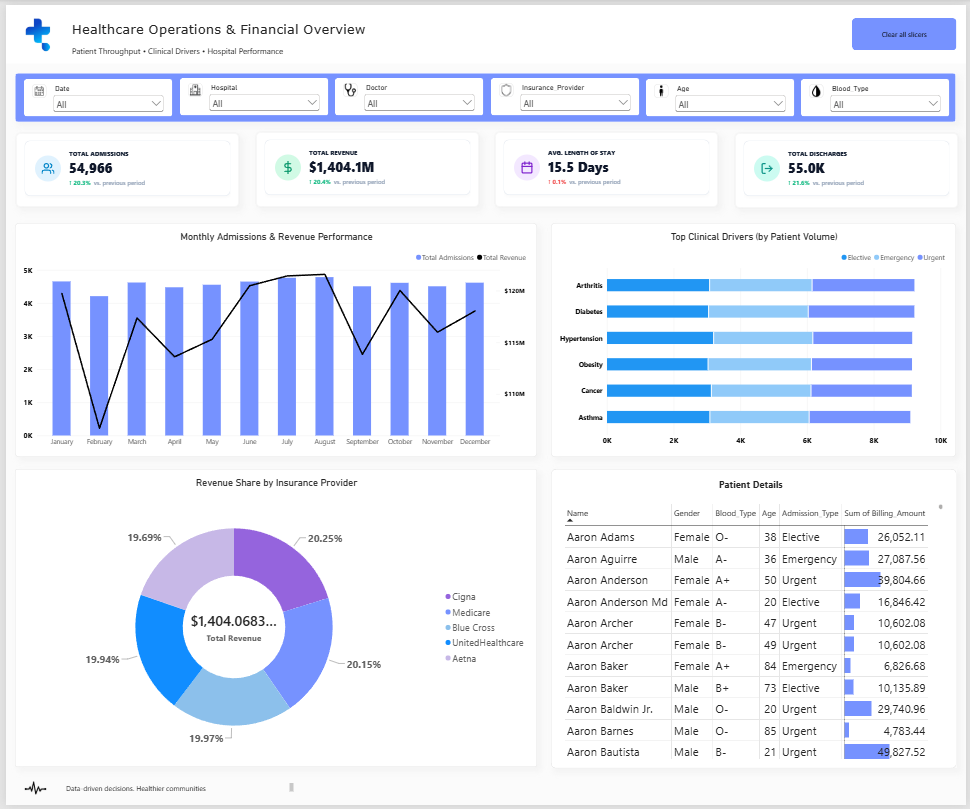

What the dashboard file says about the page in this screenshot:
{"tool":"powerbi","page":{"name":"Dashboard","canvas":[1920,1600],"ordinal":0},"visuals":[{"type":"shape","box":[0,0,1920,116.7],"z":0},{"type":"textbox","box":[132.2,0,706.7,80],"z":0,"group":"g2"},{"type":"slicer","fields":{"Values":["dim_doctor.Doctor"]},"box":[711.7,145.3,230,86],"z":0,"group":"g12"},{"type":"slicer","fields":{"Values":["dim_hospital.Hospital"]},"box":[401.7,146.1,230,86],"z":0,"group":"g13"},{"type":"slicer","fields":{"Values":["dim_insurance.Insurance_Provider"]},"box":[1023.4,146.1,230,86],"z":0,"group":"g14"},{"type":"slicer","fields":{"Values":["dim_date.Date"]},"box":[90,146.4,230,86],"z":0,"group":"g15"},{"type":"slicer","fields":{"Values":["dim_patient.Age"]},"box":[1333.2,146.6,230,86],"z":0,"group":"g16"},{"type":"group","id":"g1","title":"Group 2","box":[1589,148.3,296,86],"z":0,"group":"g4"},{"type":"slicer","fields":{"Values":["dim_patient.Blood_Type"]},"box":[1644,148.3,230,86],"z":0,"group":"g17"},{"type":"shape","box":[1090,928.8,811.2,598.8],"z":0,"group":"g11"},{"type":"group","id":"g2","title":"Group 1","box":[132.2,0,706.7,115],"z":1000},{"type":"textbox","box":[132.2,80,446.7,35],"z":1000,"group":"g2"},{"type":"group","id":"g3","title":"Group 4","box":[35,145.3,1539.4,87.3],"z":1000,"group":"g4"},{"type":"image","box":[673.2,155.8,29.1,27.7],"z":1000,"group":"g12"},{"type":"image","box":[363.2,156.6,29.1,27.7],"z":1000,"group":"g13"},{"type":"image","box":[984.9,156.6,29.1,27.7],"z":1000,"group":"g14"},{"type":"image","box":[51.5,156.9,29.1,27.7],"z":1000,"group":"g15"},{"type":"image","box":[1294.7,157.1,29.1,27.7],"z":1000,"group":"g16"},{"type":"image","box":[1605.5,158.8,29.1,27.7],"z":1000,"group":"g17"},{"type":"tableEx","fields":{"Values":["dim_patient.Name","dim_patient.Gender","dim_patient.Blood_Type","dim_patient.Age","fact_healthcare.Admission_Type","Sum(fact_healthcare.Billing_Amount)"]},"box":[1100.6,984.3,789.9,540.2],"z":1000,"group":"g11"},{"type":"image","box":[18.3,16.7,91.7,86.7],"z":2000},{"type":"textbox","box":[1426.6,946.2,454.3,80],"z":2000,"group":"g11"},{"type":"shape","box":[18.3,135,1881.7,98.3],"z":3000},{"type":"group","id":"g4","title":"Group 5","box":[35,145.3,1850,89],"z":4000},{"type":"group","id":"g5","title":"Group 2","box":[35,146.4,296,86],"z":4000,"group":"g3"},{"type":"group","id":"g6","title":"Group 2","box":[346.7,146.1,295.7,86.4],"z":5000,"group":"g3"},{"type":"group","id":"g7","title":"Group 6","box":[19.6,254.4,1885,152.5],"z":5000},{"type":"group","id":"g8","title":"Group 2","box":[656.7,145.3,295.8,86.7],"z":6000,"group":"g3"},{"type":"lineClusteredColumnComboChart","title":"Monthly Admissions & Revenue Performance","fields":{"Category":["dim_date.Month Name"],"Y":["Key_Metrics.Total Admissions"],"Y2":["Key_Metrics.Total Revenue"]},"box":[18,436,1044,468],"z":6000},{"type":"group","id":"g9","title":"Group 2","box":[968.4,146.1,296.2,86.2],"z":7000,"group":"g3"},{"type":"barChart","title":"Top Clinical Drivers (by Patient Volume)","fields":{"Category":["fact_healthcare.Medical_Condition"],"Series":["fact_healthcare.Admission_Type"],"Y":["Key_Metrics.Total Admissions"]},"box":[1090,436.7,810,468.3],"z":7000},{"type":"group","id":"g10","title":"Group 2","box":[1278.2,146.6,296.2,85.7],"z":8000,"group":"g3"},{"type":"htmlContent443BE3AD55E043BF878BED274D3A6855","fields":{"content":["Key_Metrics.KPI_HTML_Admissions"]},"box":[19.6,255.7,446,148],"z":8000,"group":"g7"},{"type":"group","id":"g11","title":"Group 7","box":[1090,928.8,811.2,598.8],"z":8000},{"type":"actionButton","box":[1691.1,26.7,208.9,64.4],"z":9000},{"type":"htmlContent443BE3AD55E043BF878BED274D3A6855","fields":{"content":["Key_Metrics.KPI_HTML_Revenue"]},"box":[498.6,254.4,446,150],"z":9000,"group":"g7"},{"type":"donutChart","title":"Revenue Share by Insurance Provider","fields":{"Category":["dim_insurance.Insurance_Provider"],"Y":["Key_Metrics.Total Revenue"]},"box":[18,928,1044,596],"z":9001},{"type":"textbox","box":[120,1555,455,17.5],"z":9002},{"type":"image","box":[18,1539,82,54],"z":9004},{"type":"shape","box":[656.7,145.3,296.7,75],"z":10000,"group":"g8"},{"type":"shape","box":[346.7,146.1,296.7,75],"z":10000,"group":"g6"},{"type":"shape","box":[968.4,146.1,296.7,75],"z":10000,"group":"g9"},{"type":"shape","box":[35,146.4,296.7,75],"z":10000,"group":"g5"},{"type":"shape","box":[1278.2,146.6,296.7,75],"z":10000,"group":"g10"},{"type":"shape","box":[1589,148.3,296.7,75],"z":10000,"group":"g1"},{"type":"htmlContent443BE3AD55E043BF878BED274D3A6855","fields":{"content":["Key_Metrics.KPI_HTML_AvgStay"]},"box":[977.6,255.1,446,150],"z":10000,"group":"g7"},{"type":"group","id":"g12","title":"Group 3","box":[673.2,145.3,268.5,86],"z":10503,"group":"g8"},{"type":"group","id":"g13","title":"Group 3","box":[363.2,146.1,268.5,86],"z":10503,"group":"g6"},{"type":"group","id":"g14","title":"Group 3","box":[984.9,146.1,268.5,86],"z":10503,"group":"g9"},{"type":"group","id":"g15","title":"Group 3","box":[51.5,146.4,268.5,86],"z":10503,"group":"g5"},{"type":"group","id":"g16","title":"Group 3","box":[1294.7,146.6,268.5,86],"z":10503,"group":"g10"},{"type":"group","id":"g17","title":"Group 3","box":[1605.5,148.3,268.5,86],"z":10503,"group":"g1"},{"type":"htmlContent443BE3AD55E043BF878BED274D3A6855","fields":{"content":["Key_Metrics.KPI_HTML_Discharges"]},"box":[1456.6,255.7,446.2,150],"z":11000,"group":"g7"}]}

Visuals, with their boxes in screenshot pixels (x1, y1, x2, y2), scaled from the page's 1920x1600 canvas onto the 970x809 screenshot:
shape: <box>0,0,969,59</box>
textbox: <box>67,0,424,40</box>
slicer - dim_doctor.Doctor: <box>360,73,476,117</box>
slicer - dim_hospital.Hospital: <box>203,74,319,117</box>
slicer - dim_insurance.Insurance_Provider: <box>517,74,633,117</box>
slicer - dim_date.Date: <box>45,74,162,118</box>
slicer - dim_patient.Age: <box>674,74,790,118</box>
"Group 2" group: <box>803,75,952,118</box>
slicer - dim_patient.Blood_Type: <box>831,75,947,118</box>
shape: <box>551,470,961,772</box>
"Group 1" group: <box>67,0,424,58</box>
textbox: <box>67,40,292,58</box>
"Group 4" group: <box>18,73,795,118</box>
image: <box>340,79,355,93</box>
image: <box>183,79,198,93</box>
image: <box>498,79,512,93</box>
image: <box>26,79,41,93</box>
image: <box>654,79,669,93</box>
image: <box>811,80,826,94</box>
tableEx - dim_patient.Name x dim_patient.Gender: <box>556,498,955,771</box>
image: <box>9,8,56,52</box>
textbox: <box>721,478,950,519</box>
shape: <box>9,68,960,118</box>
"Group 5" group: <box>18,73,952,118</box>
"Group 2" group: <box>18,74,167,118</box>
"Group 2" group: <box>175,74,325,118</box>
"Group 6" group: <box>10,129,962,206</box>
"Group 2" group: <box>332,73,481,117</box>
"Monthly Admissions & Revenue Performance" lineClusteredColumnComboChart: <box>9,220,537,457</box>
"Group 2" group: <box>489,74,639,117</box>
"Top Clinical Drivers (by Patient Volume)" barChart: <box>551,221,960,458</box>
"Group 2" group: <box>646,74,795,117</box>
htmlContent443BE3AD55E043BF878BED274D3A6855 - Key_Metrics.KPI_HTML_Admissions: <box>10,129,235,204</box>
"Group 7" group: <box>551,470,961,772</box>
actionButton: <box>854,14,960,46</box>
htmlContent443BE3AD55E043BF878BED274D3A6855 - Key_Metrics.KPI_HTML_Revenue: <box>252,129,477,204</box>
"Revenue Share by Insurance Provider" donutChart: <box>9,469,537,771</box>
textbox: <box>61,786,290,795</box>
image: <box>9,778,51,805</box>
shape: <box>332,73,482,111</box>
shape: <box>175,74,325,112</box>
shape: <box>489,74,639,112</box>
shape: <box>18,74,168,112</box>
shape: <box>646,74,796,112</box>
shape: <box>803,75,953,113</box>
htmlContent443BE3AD55E043BF878BED274D3A6855 - Key_Metrics.KPI_HTML_AvgStay: <box>494,129,719,205</box>
"Group 3" group: <box>340,73,476,117</box>
"Group 3" group: <box>183,74,319,117</box>
"Group 3" group: <box>498,74,633,117</box>
"Group 3" group: <box>26,74,162,118</box>
"Group 3" group: <box>654,74,790,118</box>
"Group 3" group: <box>811,75,947,118</box>
htmlContent443BE3AD55E043BF878BED274D3A6855 - Key_Metrics.KPI_HTML_Discharges: <box>736,129,961,205</box>
